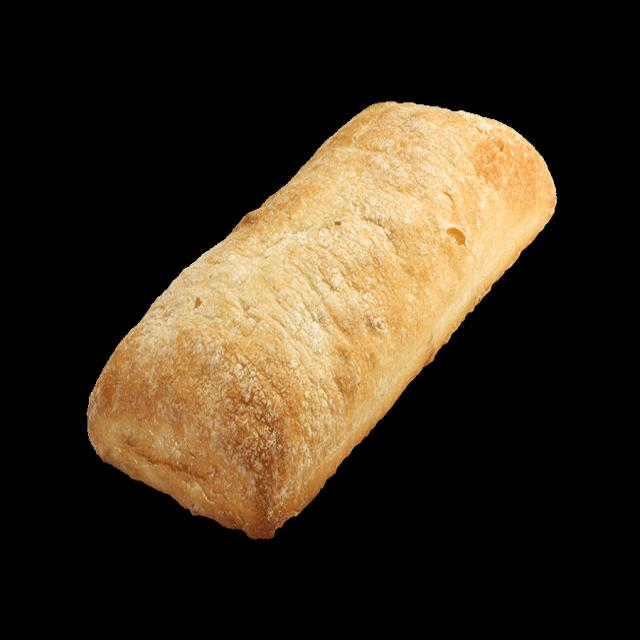Ciabatta: (89, 102, 555, 537)
